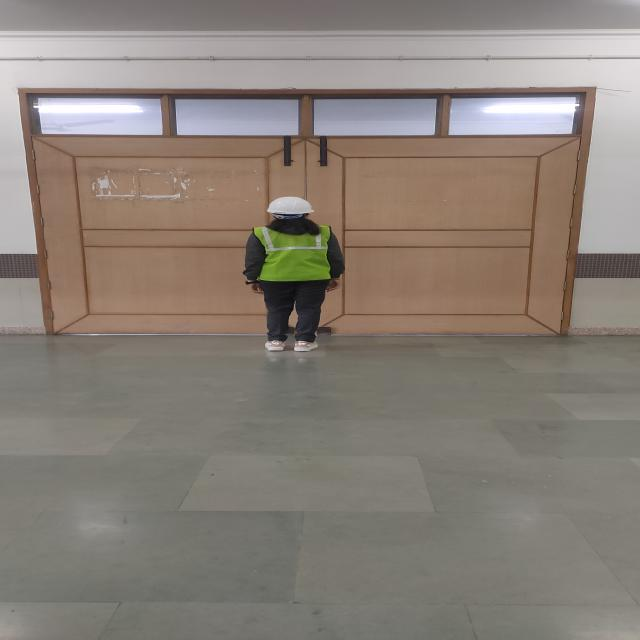safe: (246, 197, 344, 351)
